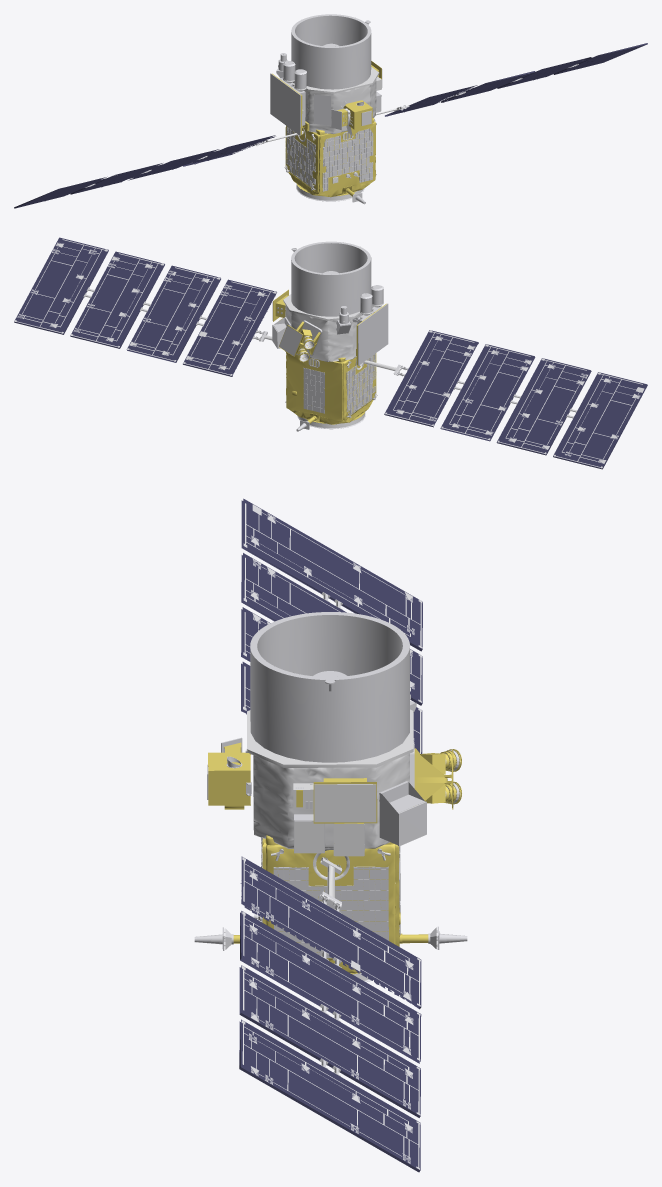
Rendered from CloudSatB.glb.
The picture shows the model from 3 angles, top to bottom: view 1: azimuth 30°, elevation 25°; view 2: azimuth 150°, elevation 25°; view 3: azimuth 270°, elevation 25°; orthographic projection. The views are drawn at different scales.
Visible parts, largest first — view 1: Mesh _node_5, Mesh _node_16, Mesh _node_19, Mesh _node_7, Mesh _node_1, Mesh _node_18, Mesh _node_3, Mesh, Mesh _node_14, Mesh _node_9, Mesh _node_10, Mesh _node_4 (+5 smaller); view 2: Mesh _node_16, Mesh _node_7, Mesh _node_5, Mesh _node_19, Mesh _node_3, Mesh _node_18, Mesh _node, Mesh _node_1, Mesh _node_4, Mesh _node_0, Mesh _node_14, Mesh _node_2 (+1 smaller); view 3: Mesh _node_16, Mesh _node_7, Mesh _node_19, Mesh _node_18, Mesh _node_1, Mesh _node_5, Mesh _node_4, Mesh _node_2, Mesh _node, Mesh _node_17, Mesh _node_0.
Part boxes in pixels (x1=…): Mesh _node_5: x1=270, y1=20, x2=373, y2=191; Mesh _node_16: x1=15, y1=44, x2=646, y2=208; Mesh _node_19: x1=291, y1=14, x2=371, y2=89; Mesh _node_7: x1=266, y1=65, x2=399, y2=200; Mesh _node_1: x1=285, y1=65, x2=378, y2=197; Mesh _node_18: x1=295, y1=15, x2=367, y2=46; Mesh _node_3: x1=285, y1=122, x2=376, y2=193; Mesh: x1=17, y1=46, x2=642, y2=207; Mesh _node_14: x1=276, y1=53, x2=382, y2=189; Mesh _node_9: x1=20, y1=45, x2=644, y2=206; Mesh _node_10: x1=28, y1=48, x2=631, y2=204; Mesh _node_4: x1=85, y1=20, x2=578, y2=204; Mesh _node_16: x1=14, y1=237, x2=647, y2=468; Mesh _node_7: x1=16, y1=239, x2=642, y2=467; Mesh _node_5: x1=272, y1=248, x2=388, y2=415; Mesh _node_19: x1=291, y1=241, x2=371, y2=316; Mesh _node_3: x1=286, y1=352, x2=376, y2=421; Mesh _node_18: x1=294, y1=243, x2=367, y2=273; Mesh _node: x1=14, y1=242, x2=643, y2=468; Mesh _node_1: x1=275, y1=295, x2=376, y2=424; Mesh _node_4: x1=83, y1=248, x2=577, y2=431; Mesh _node_0: x1=23, y1=243, x2=644, y2=463; Mesh _node_14: x1=272, y1=285, x2=383, y2=417; Mesh _node_2: x1=273, y1=289, x2=386, y2=423; Mesh _node_16: x1=239, y1=498, x2=422, y2=1170; Mesh _node_7: x1=242, y1=503, x2=423, y2=1167; Mesh _node_19: x1=250, y1=612, x2=409, y2=762; Mesh _node_18: x1=257, y1=615, x2=402, y2=679; Mesh _node_1: x1=208, y1=742, x2=400, y2=974; Mesh _node_5: x1=207, y1=678, x2=426, y2=958; Mesh _node_4: x1=194, y1=592, x2=467, y2=1076; Mesh _node_2: x1=233, y1=748, x2=461, y2=943; Mesh _node: x1=225, y1=505, x2=459, y2=1169; Mesh _node_17: x1=239, y1=553, x2=422, y2=1172; Mesh _node_0: x1=249, y1=504, x2=414, y2=1157.
Size of the model in its own units: 228 by 57.87 by 45.63.
